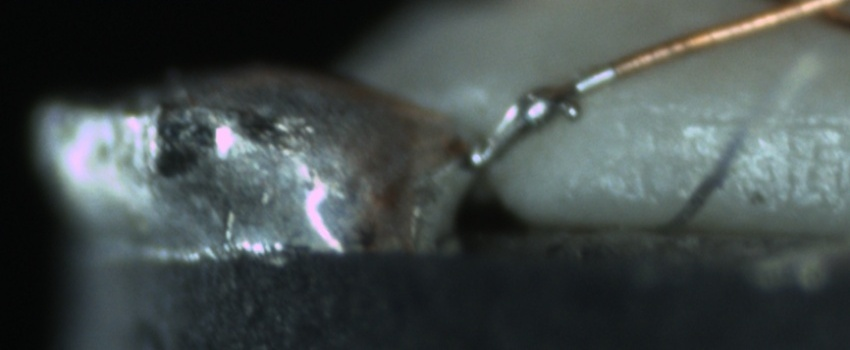CL: (746, 1, 841, 31)
DL: (623, 89, 850, 153)
TB: (494, 79, 575, 143)
TS: (474, 65, 617, 168)
TTCW: (474, 41, 662, 176)
